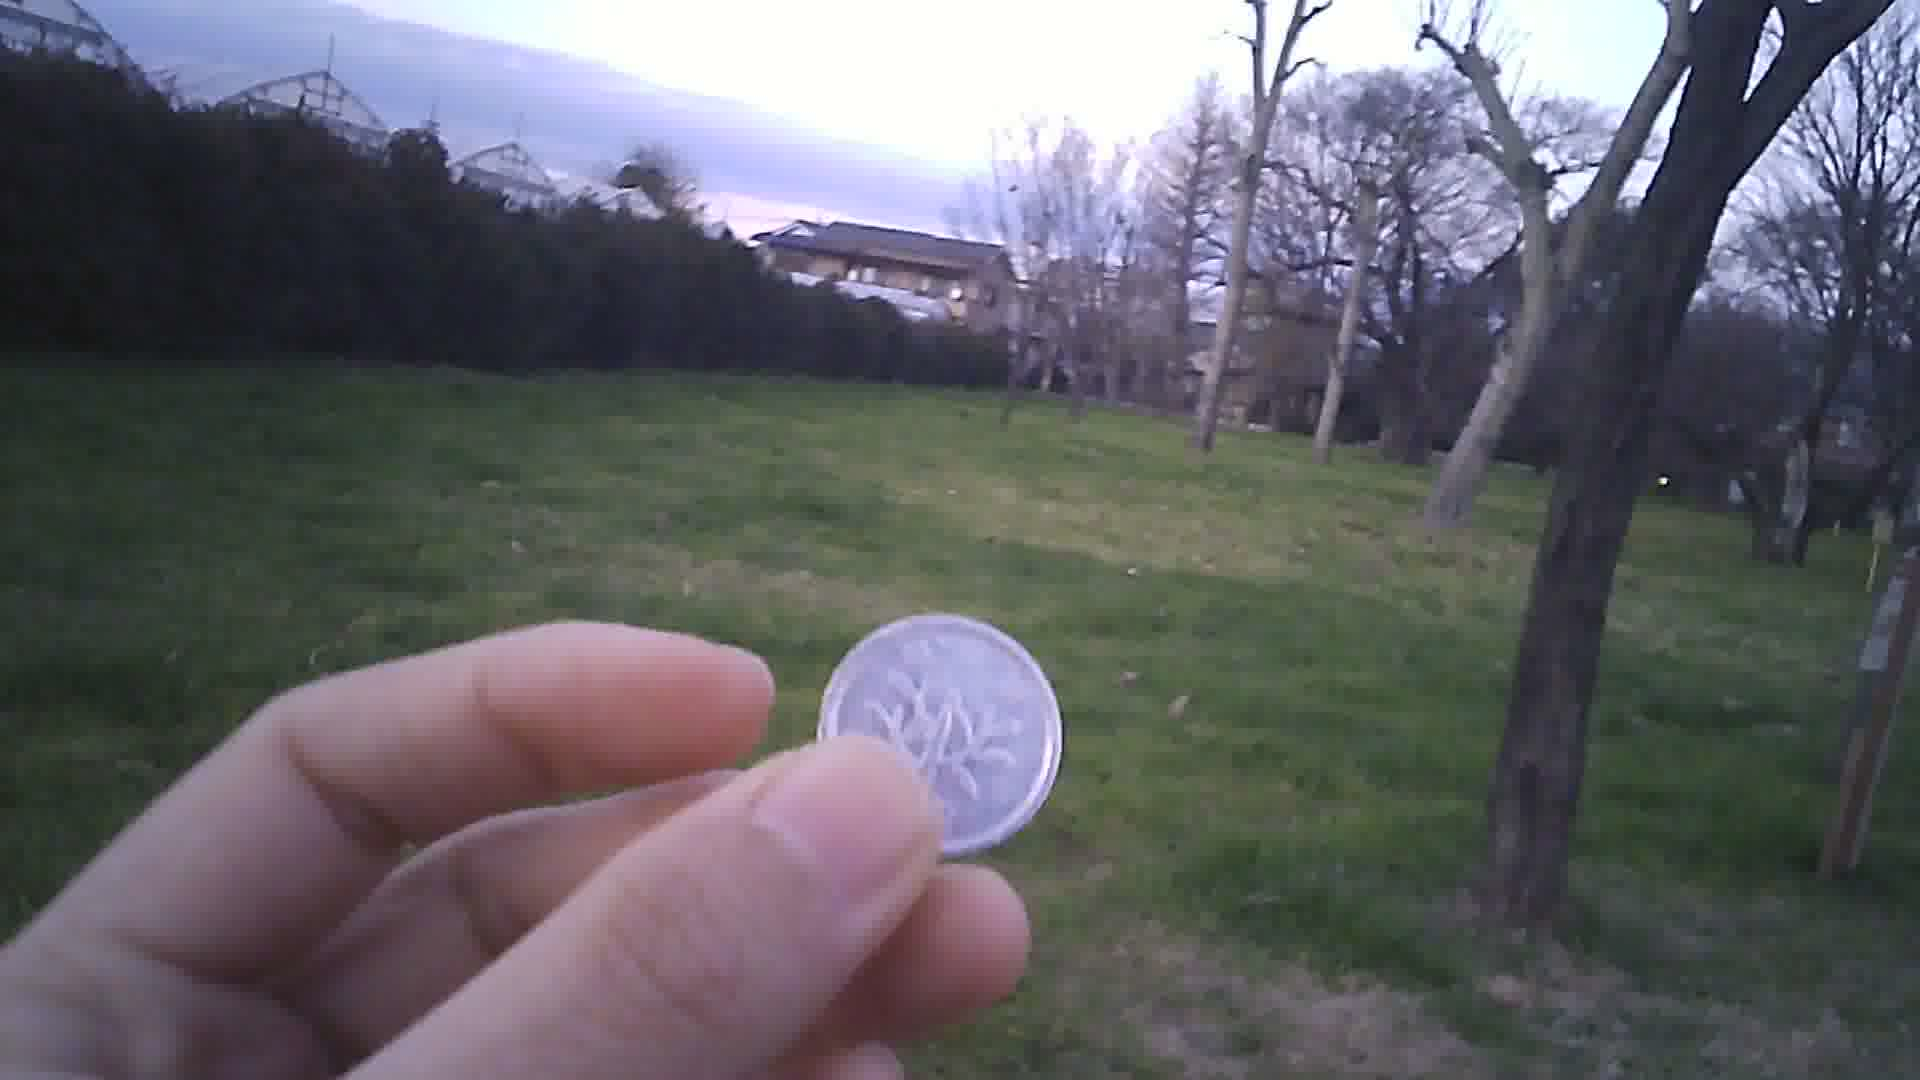1 Yen: (822, 607, 1063, 858)
